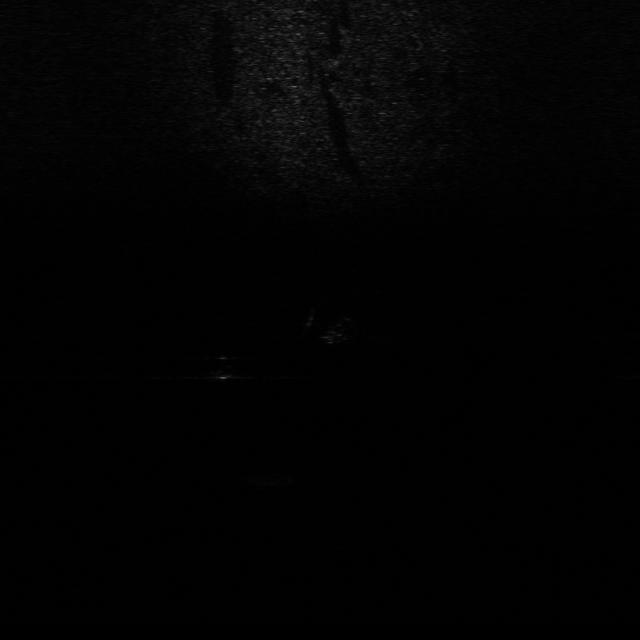ball: (206, 355, 240, 383)
circle cage: (246, 462, 302, 487)
human body: (300, 304, 360, 348)
